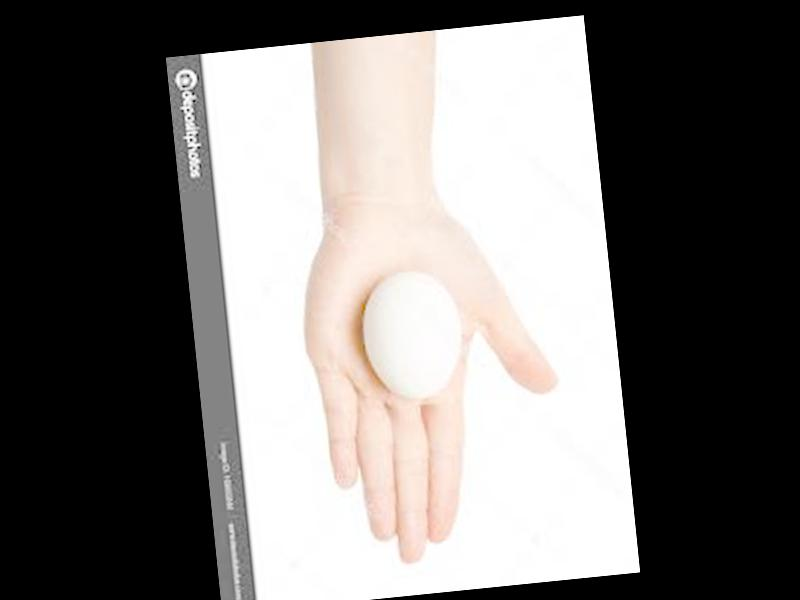Eggs: (362, 267, 464, 403)
